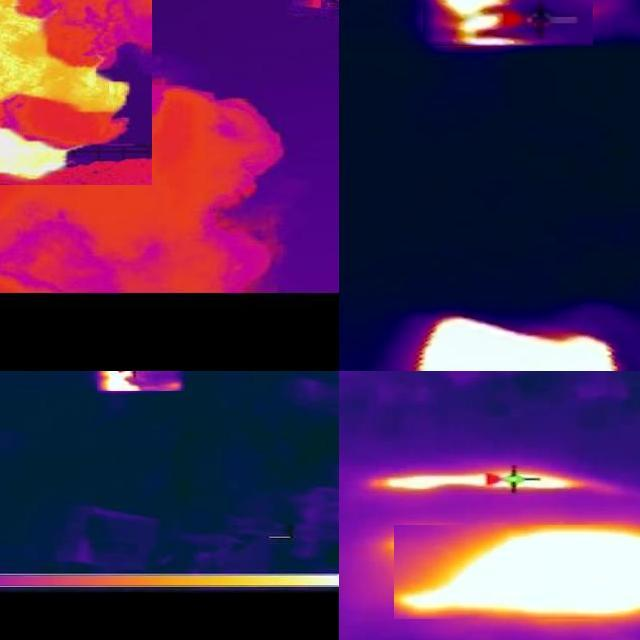fire: (1, 1, 132, 182), (404, 526, 640, 623), (386, 316, 640, 372), (366, 470, 580, 500), (423, 1, 533, 49), (97, 372, 149, 393)
